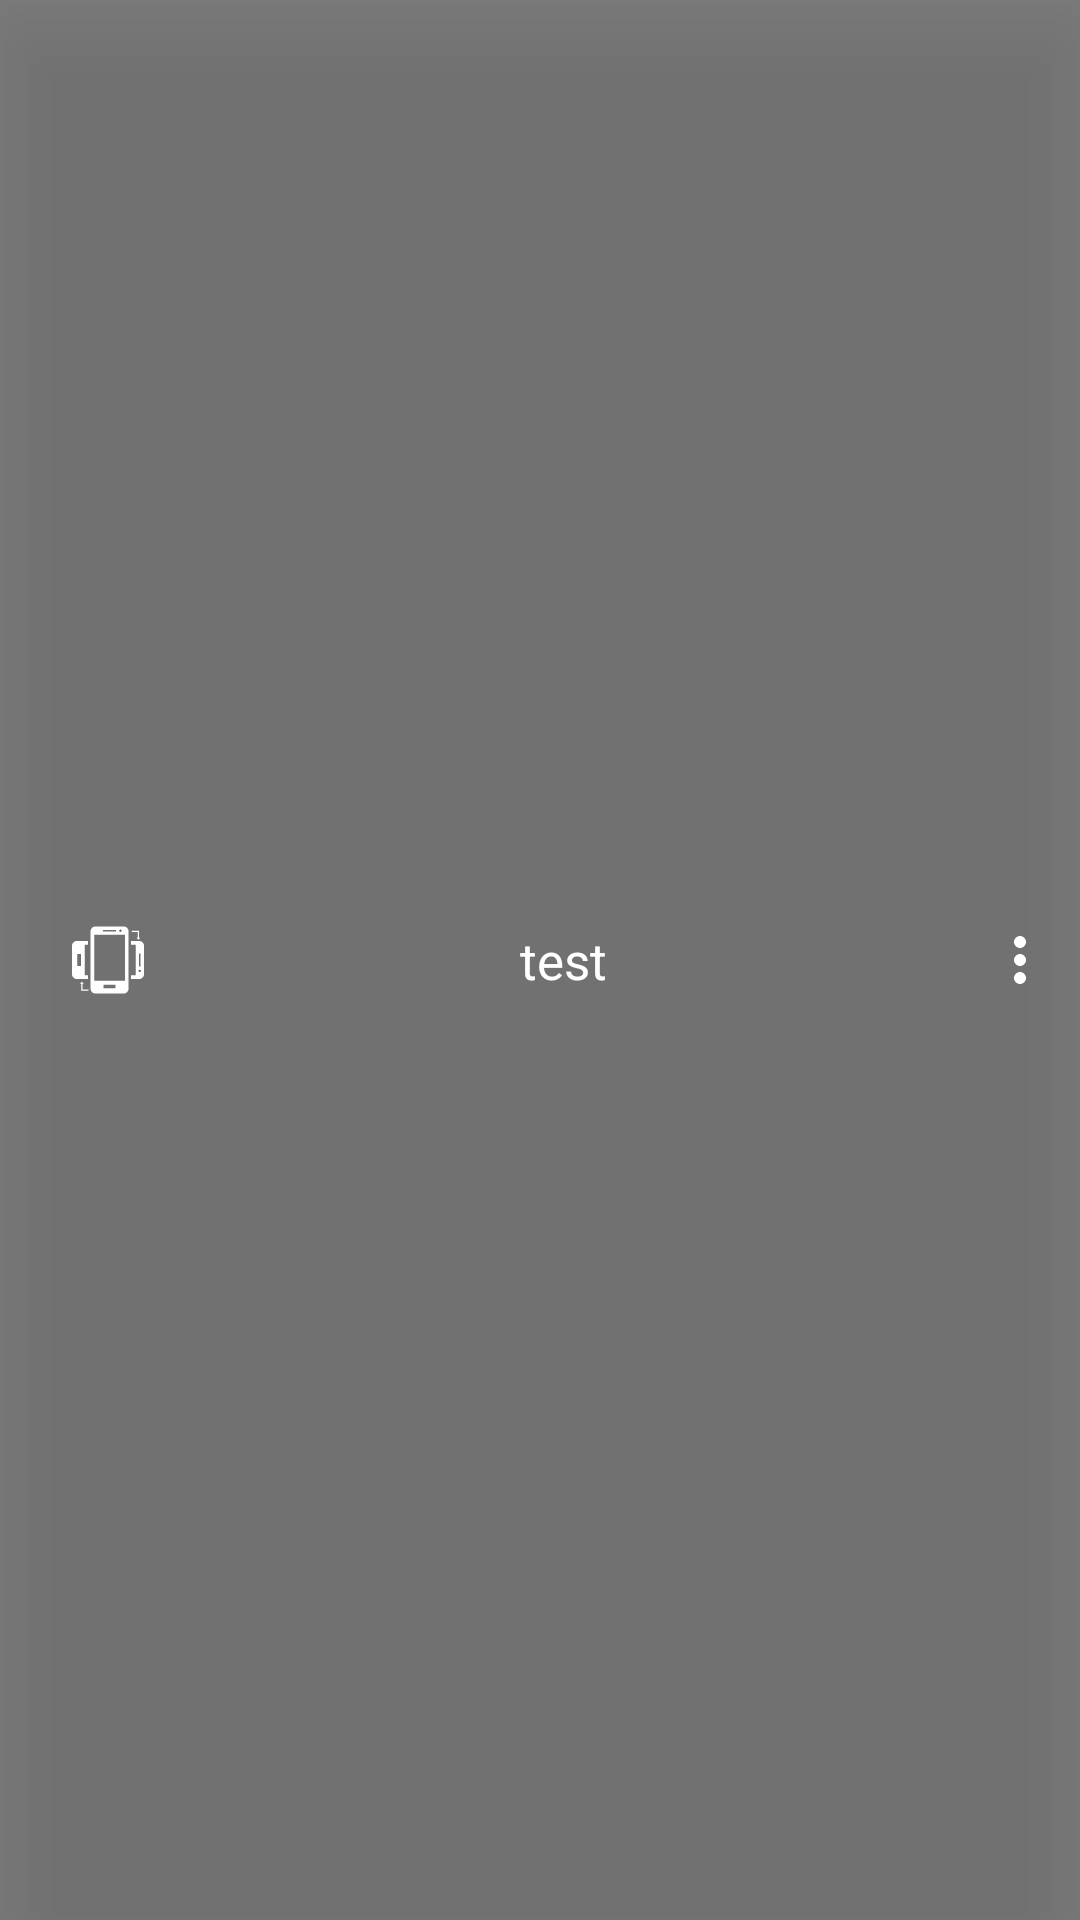

Named icons in this screenshot (1080x1920) and their bounding boxes, (x1, y1, x2, y2):
menu: (1014, 936, 1026, 984)
mobile orientation: (72, 926, 144, 994)
